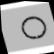no answer: (18, 11, 50, 43)
